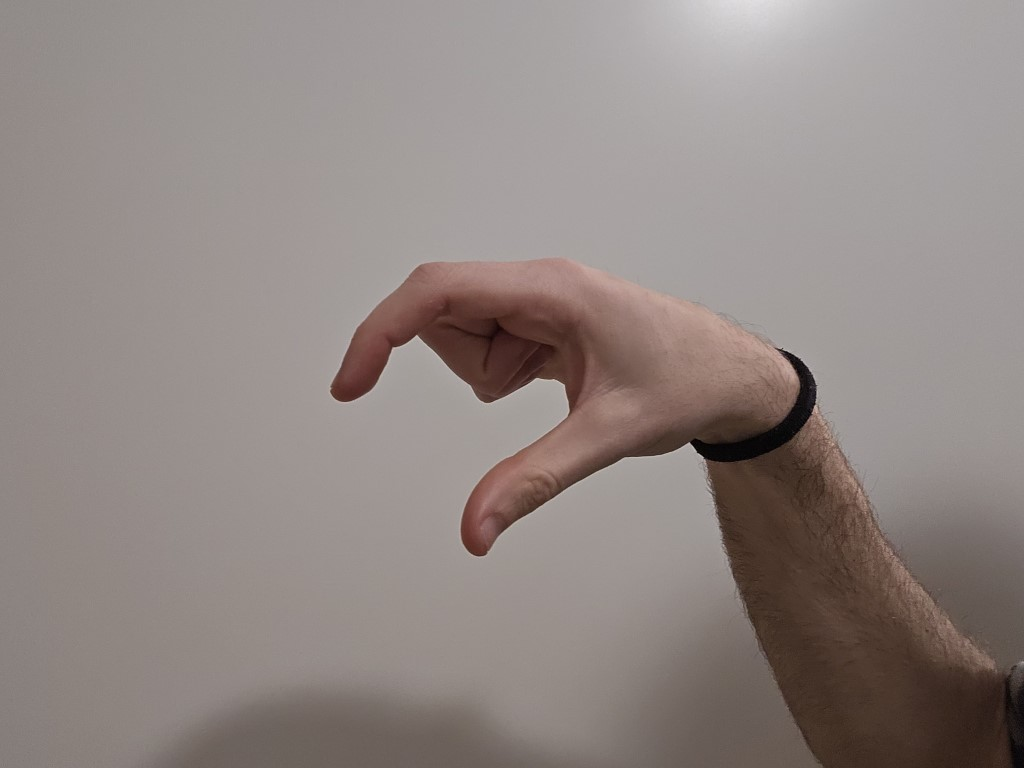q: (298, 223, 705, 581)
